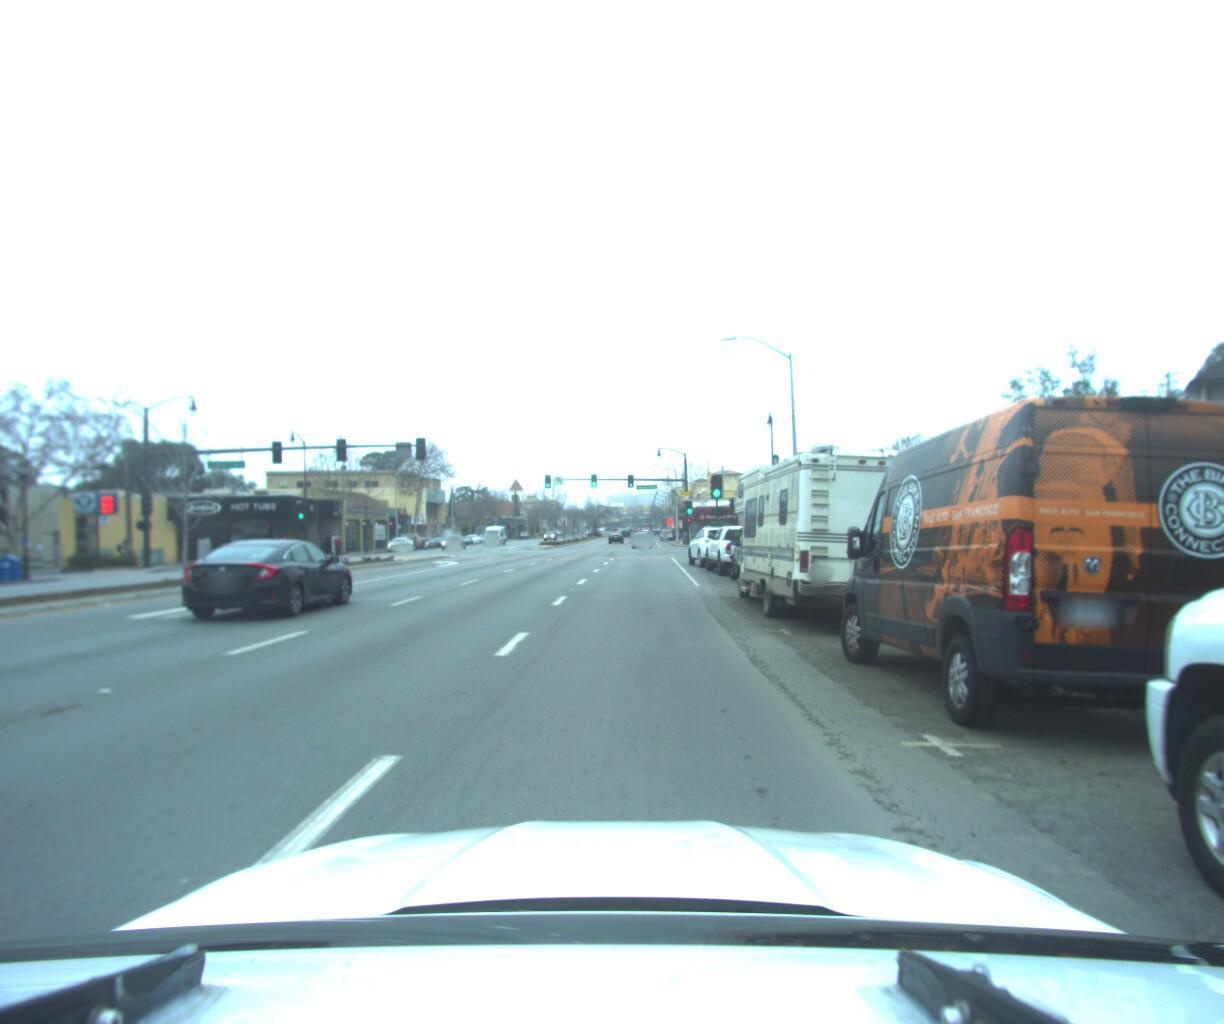bicycle: (110, 536, 154, 569)
car: (822, 381, 1224, 761), (164, 531, 367, 627), (727, 519, 815, 586), (703, 521, 784, 576), (686, 520, 754, 566), (384, 534, 416, 552), (628, 526, 654, 547), (438, 531, 468, 549)
other_vehicle: (724, 418, 985, 640)
